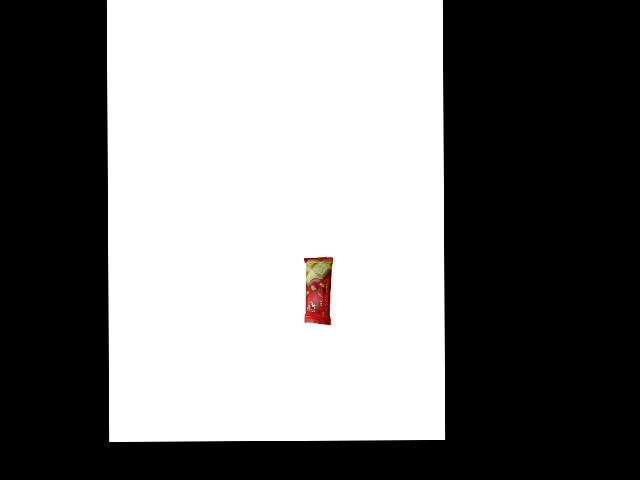chocolate: (302, 257, 337, 329)
